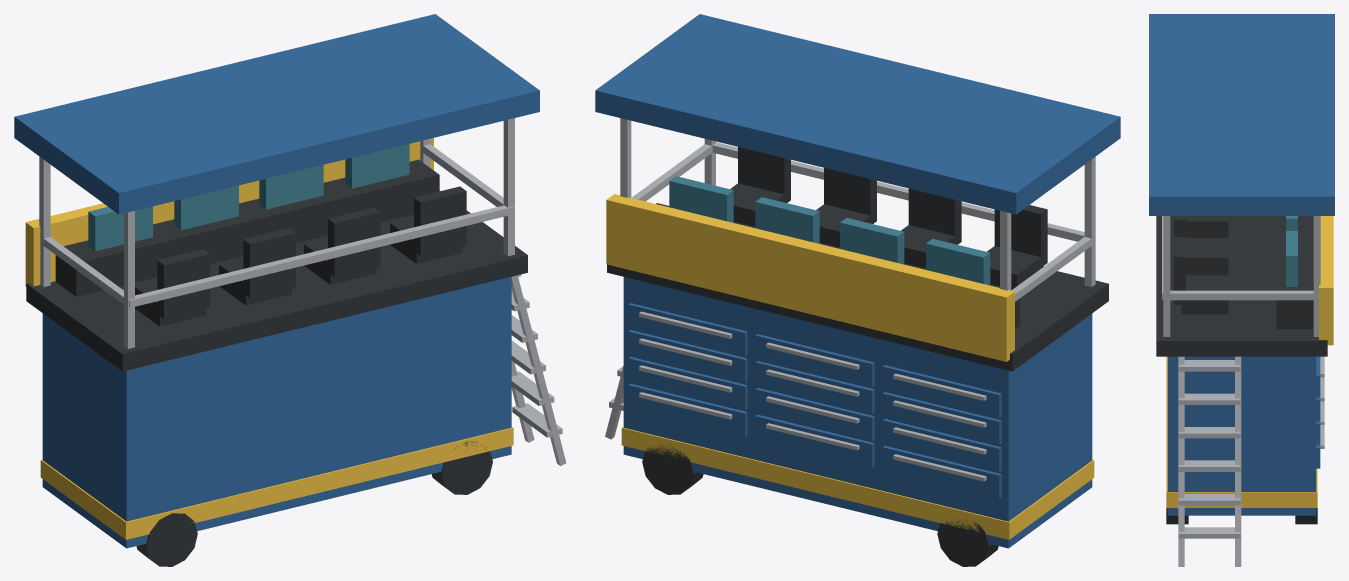
File: TeamPitBox.fbx
3 views of the same model, side by side, from view 1: azimuth 30°, elevation 25°; view 2: azimuth 150°, elevation 25°; view 3: azimuth 270°, elevation 25° (orthographic). The views are drawn at different scales.
Parts seen in each view (by area): view 1: Team Pit Box; view 2: Team Pit Box; view 3: Team Pit Box.
Part boxes in pixels (x1,y1,x2,y2): Team Pit Box: [14, 14, 566, 566]; Team Pit Box: [595, 14, 1120, 566]; Team Pit Box: [1149, 14, 1334, 566].
Size of the model in its own units: 361 by 295 by 141.
